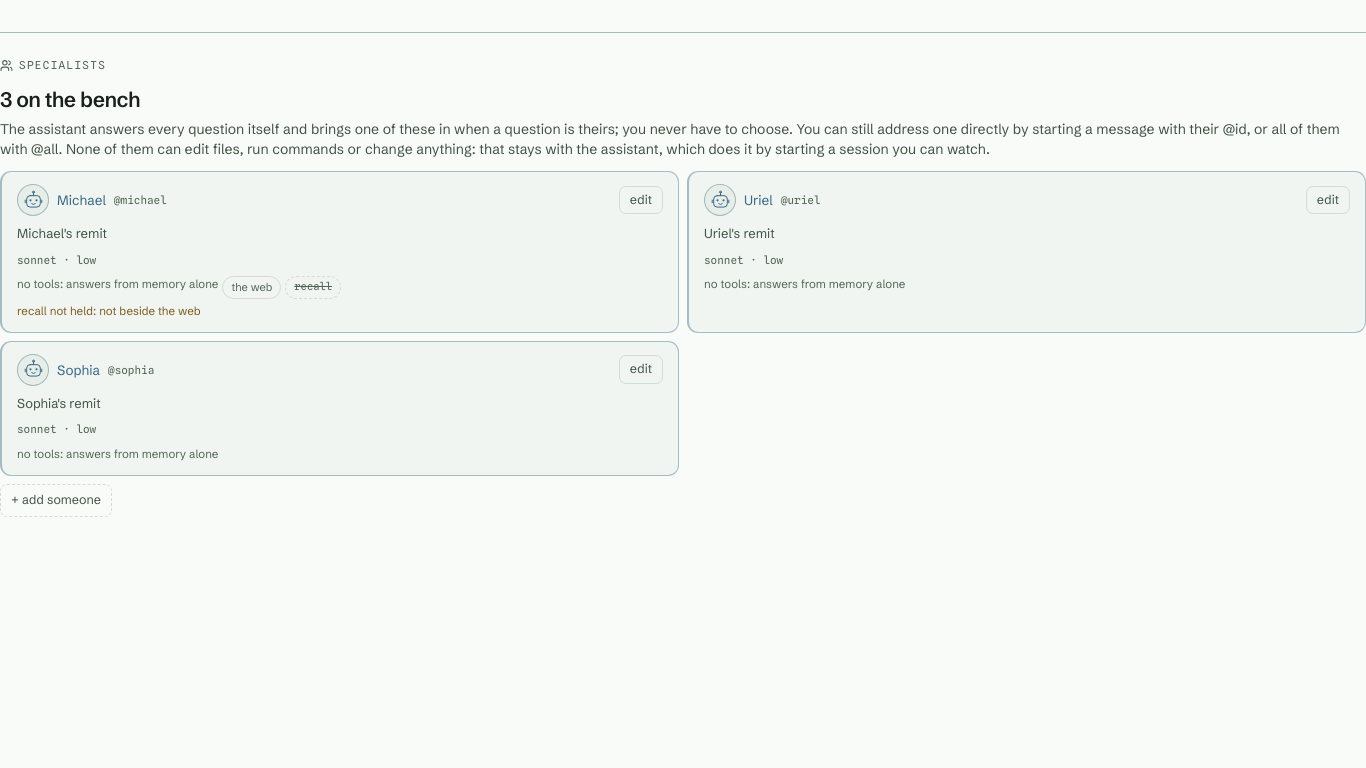
it: CouncilPanel (C-27) › asks before removing someone, and removes nobody on the way
Click the button "edit" in the row of "@uriel": (1328, 200) [1306, 186, 1350, 214]
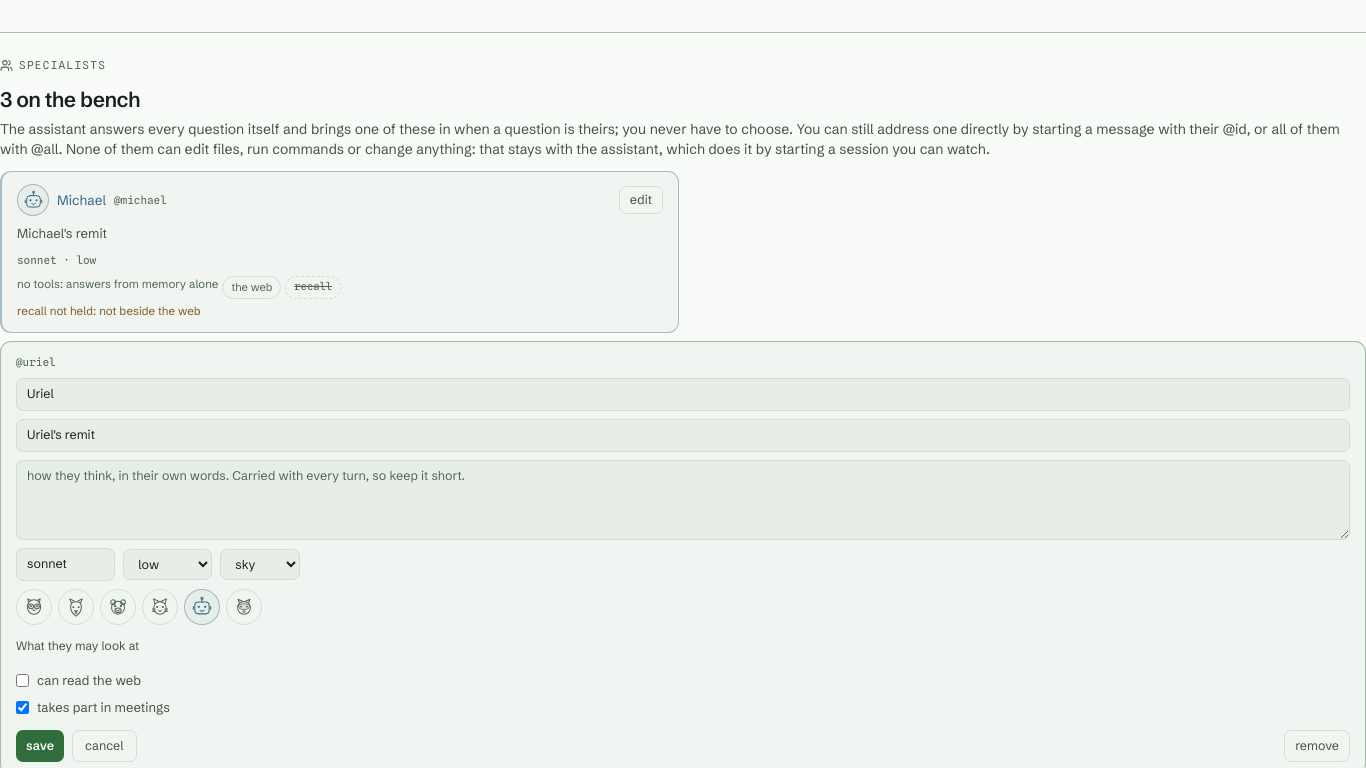
Click the button "remove": (1317, 746) [1284, 730, 1350, 762]
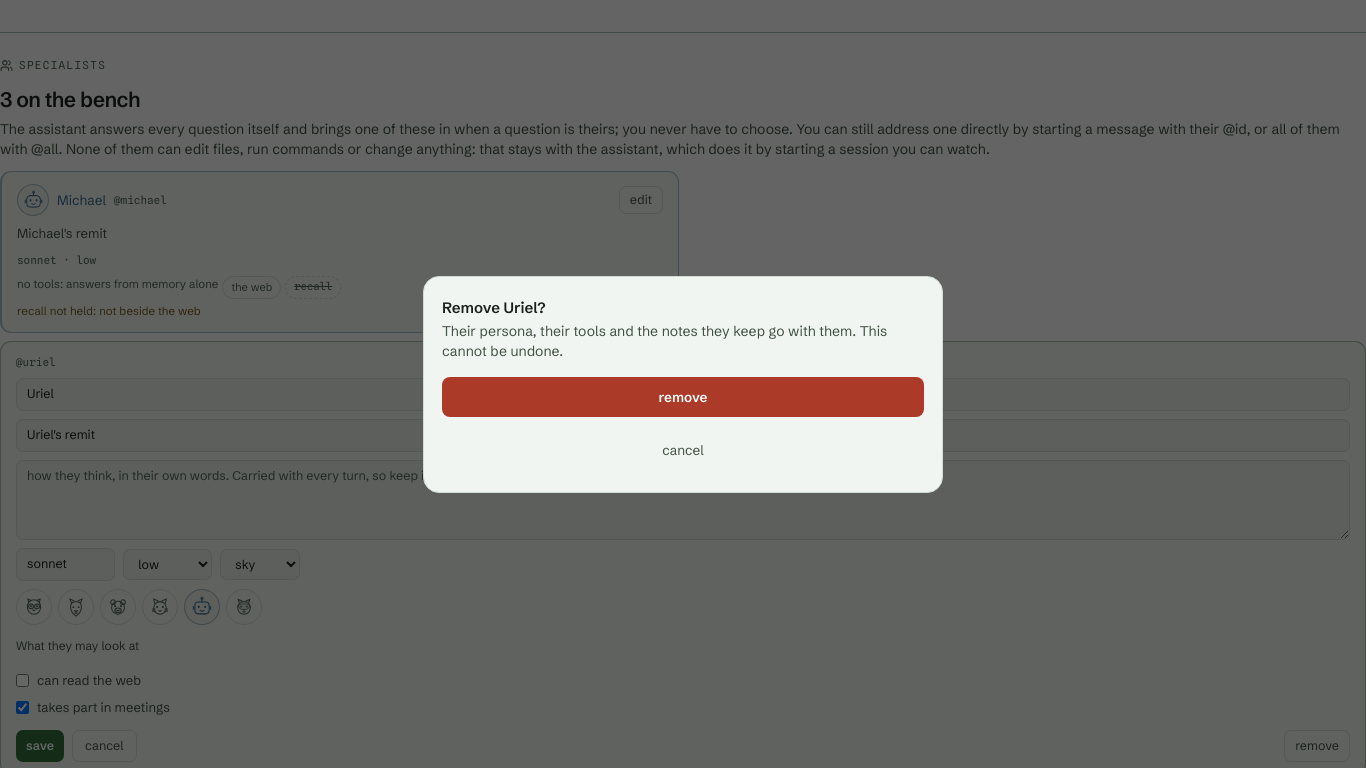
Expected: the heading "Remove Uriel?" is shown, [442, 298, 546, 316]
